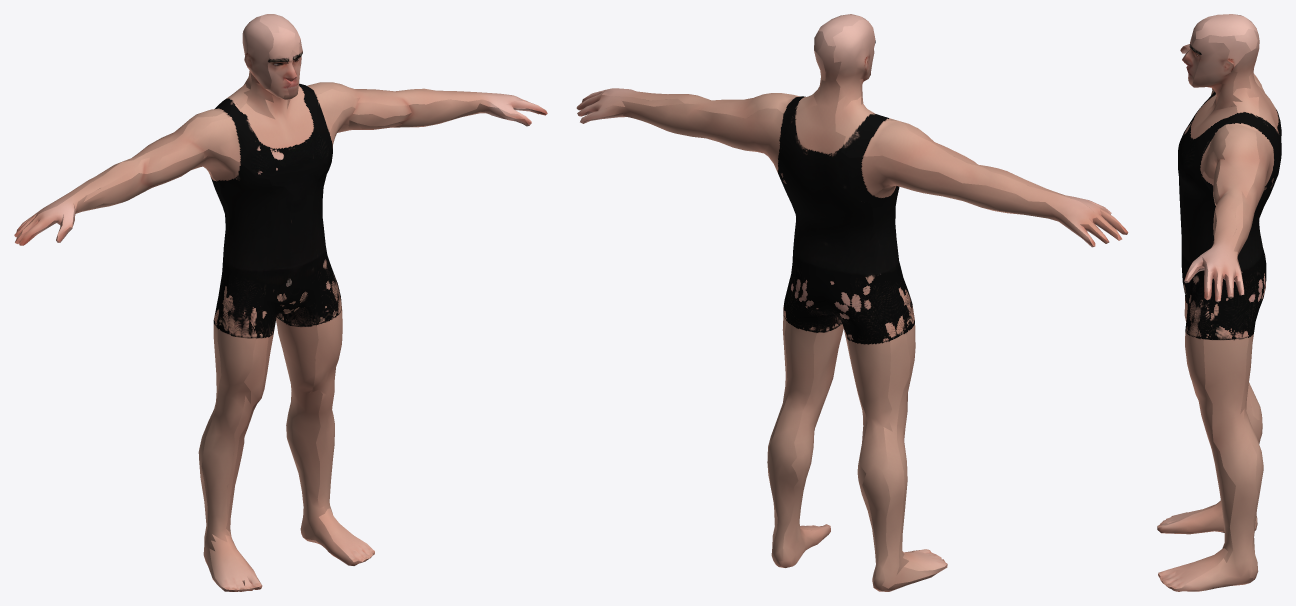
File: body_bald_registered.glb
3 renders of one model, left to right at view 1: azimuth 30°, elevation 25°; view 2: azimuth 150°, elevation 25°; view 3: azimuth 270°, elevation 25°, orthographic. The views are drawn at different scales.
Parts seen in each view (by area): view 1: RBX_BODY_body_bald; view 2: RBX_BODY_body_bald; view 3: RBX_BODY_body_bald.
Boxes of the visible parts, bbox=[...] form: RBX_BODY_body_bald: bbox=[14, 14, 547, 591]; RBX_BODY_body_bald: bbox=[576, 14, 1128, 591]; RBX_BODY_body_bald: bbox=[1157, 14, 1281, 591].
Bounding box in the file's own units: 1.1 × 1.07 × 0.2228.
Materials: 1 (1 with a texture image).
